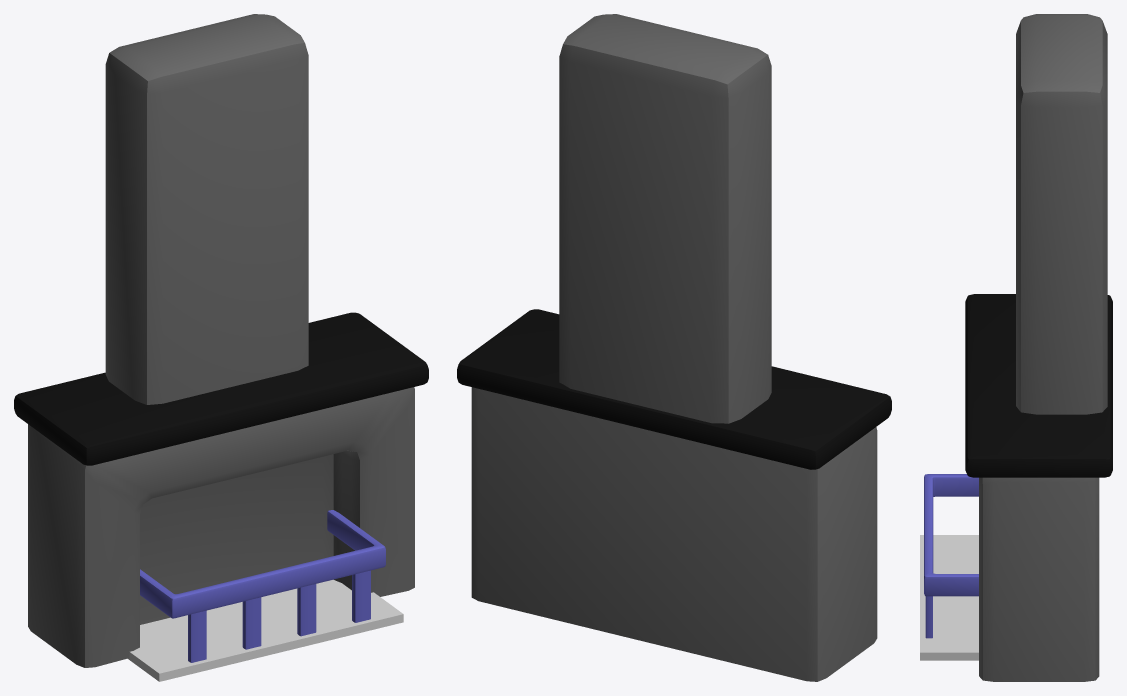
File: SM_chimney.fbx
3 renders of one model, left to right at view 1: azimuth 30°, elevation 25°; view 2: azimuth 150°, elevation 25°; view 3: azimuth 270°, elevation 25°, orthographic. The views are drawn at different scales.
Parts seen in each view (by area): view 1: Box328; view 2: Box328; view 3: Box328.
Part boxes in pixels (x1,y1,x2,y2): Box328: (14,14,428,681); Box328: (457,14,891,681); Box328: (920,14,1112,681).
Size of the model in its own units: 82.16 by 127 by 40.22.
